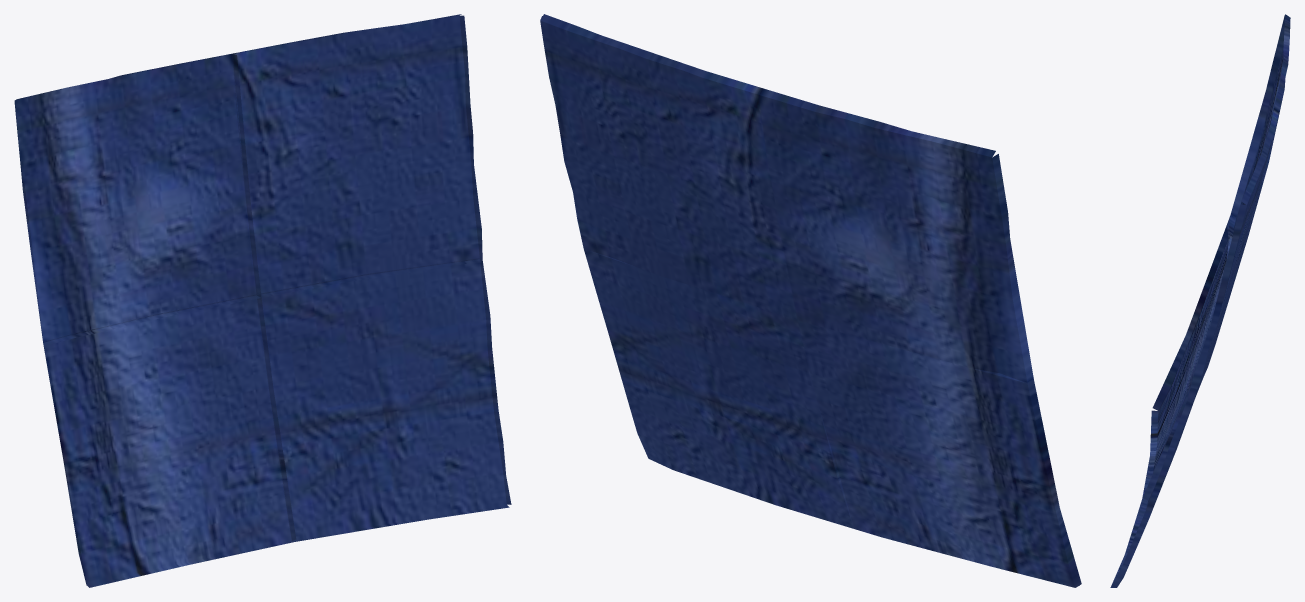
The picture shows the model from 3 angles, left to right: view 1: azimuth 30°, elevation 25°; view 2: azimuth 150°, elevation 25°; view 3: azimuth 270°, elevation 25°; orthographic projection. The views are drawn at different scales.
Size of the model in its own units: 1235845 by 1208045 by 495442.
Materials: 1 (1 with a texture image).
